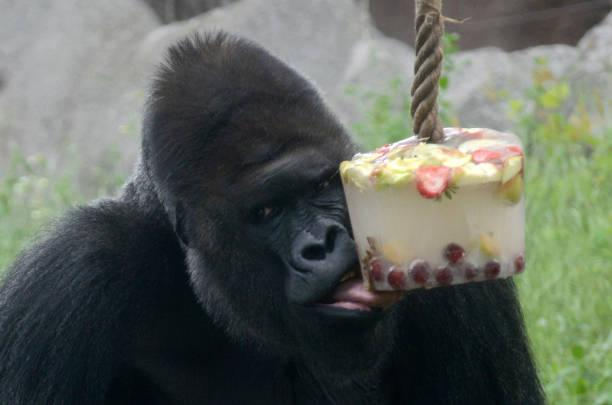gorille_Autres: (77, 29, 367, 405)
